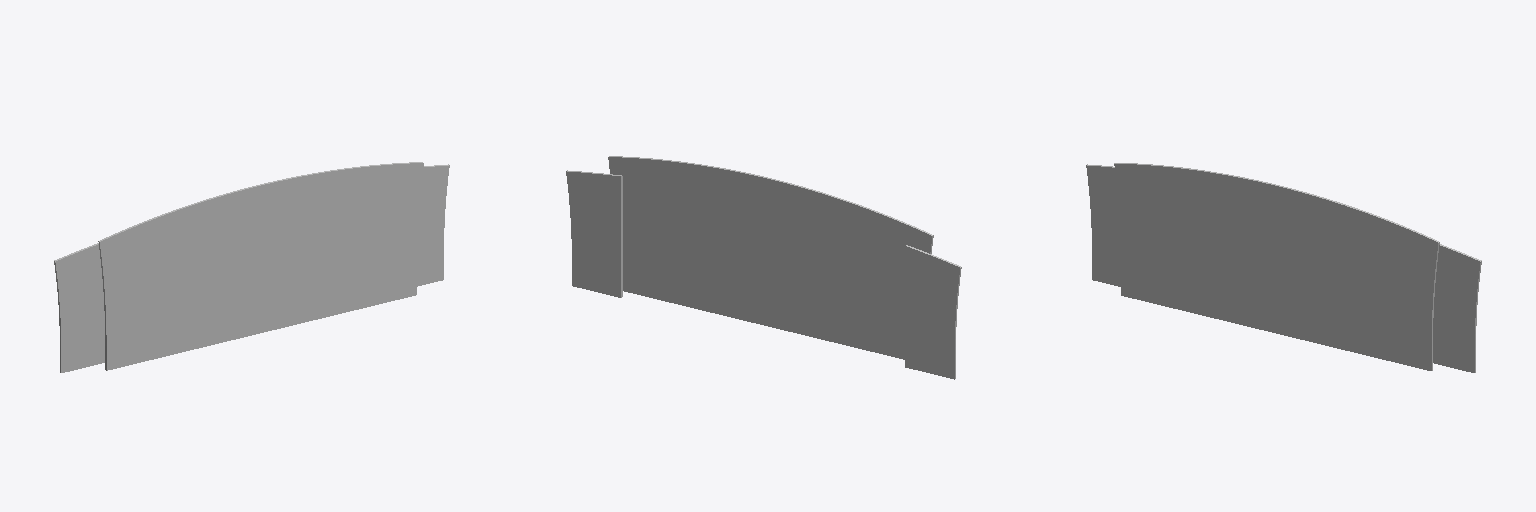
File: set-4thfloor.obj
3 renders of one model, left to right at view 1: azimuth 30°, elevation 25°; view 2: azimuth 150°, elevation 25°; view 3: azimuth 330°, elevation 25°, orthographic.
Visible parts, largest first — view 1: Middle_Mesh, Curve.001_Mesh.005, Curve.004_Mesh.002, Curve.002_Mesh.004, Curve.005_Mesh.001, Curve.003_Mesh.003; view 2: Middle_Mesh, Curve.001_Mesh.005, Curve.002_Mesh.004, Curve.004_Mesh.002, Curve.003_Mesh.003, Curve.005_Mesh.001; view 3: Middle_Mesh, Curve.001_Mesh.005, Curve.004_Mesh.002, Curve.002_Mesh.004, Curve.003_Mesh.003, Curve.005_Mesh.001.
Boxes of the visible parts, <box> form: Middle_Mesh: <box>212,174,310,344</box>; Curve.001_Mesh.005: <box>54,164,449,372</box>; Curve.004_Mesh.002: <box>155,198,212,358</box>; Curve.002_Mesh.004: <box>311,166,367,320</box>; Curve.005_Mesh.001: <box>98,217,155,370</box>; Curve.003_Mesh.003: <box>367,162,423,306</box>; Middle_Mesh: <box>721,168,819,338</box>; Curve.001_Mesh.005: <box>566,170,961,379</box>; Curve.002_Mesh.004: <box>664,160,720,314</box>; Curve.004_Mesh.002: <box>820,192,876,352</box>; Curve.003_Mesh.003: <box>608,156,664,300</box>; Curve.005_Mesh.001: <box>876,211,933,359</box>; Middle_Mesh: <box>1227,174,1326,345</box>; Curve.001_Mesh.005: <box>1086,164,1481,372</box>; Curve.004_Mesh.002: <box>1170,166,1227,320</box>; Curve.002_Mesh.004: <box>1326,199,1382,358</box>; Curve.003_Mesh.003: <box>1382,218,1439,370</box>; Curve.005_Mesh.001: <box>1114,163,1171,307</box>.
Size of the model in its own units: 8.39 by 3 by 0.3506.